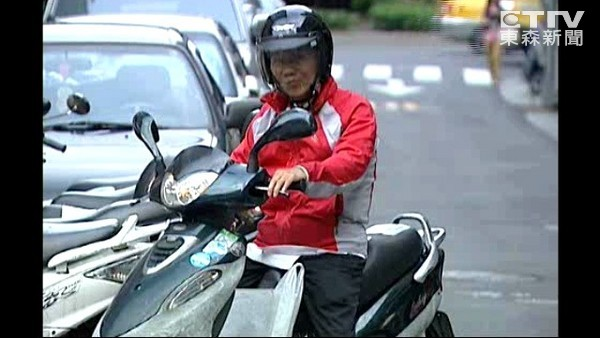helmet: (249, 11, 338, 81)
